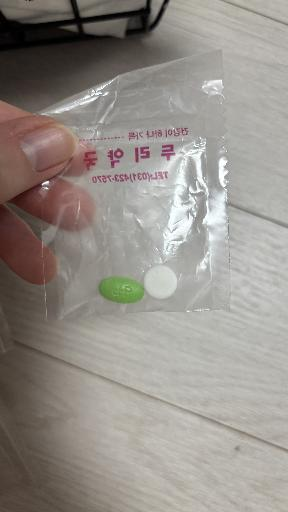Flasinyl: (144, 265, 177, 300)
Upadin: (99, 277, 144, 304)
vinyl: (37, 51, 230, 320)
